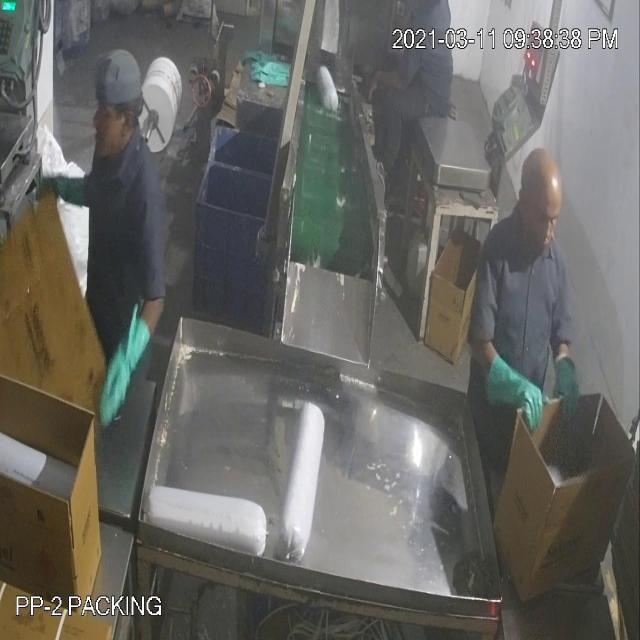gloves: (484, 343, 546, 435), (545, 343, 590, 429)
no-gloves: (359, 53, 402, 103)
